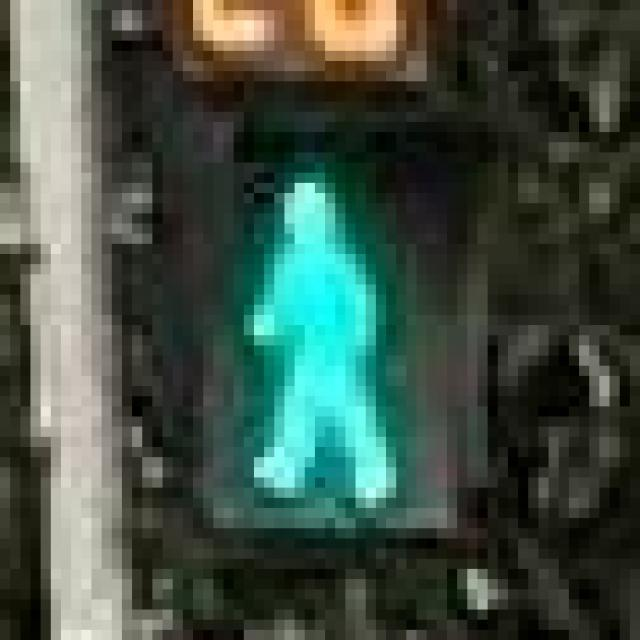geen-crossing: (162, 91, 458, 518)
